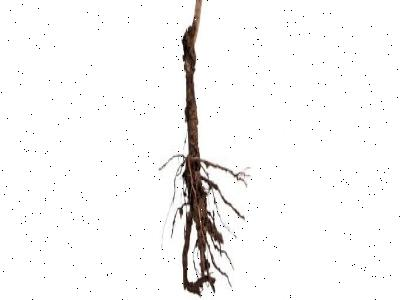Root: (182, 0, 223, 294)
